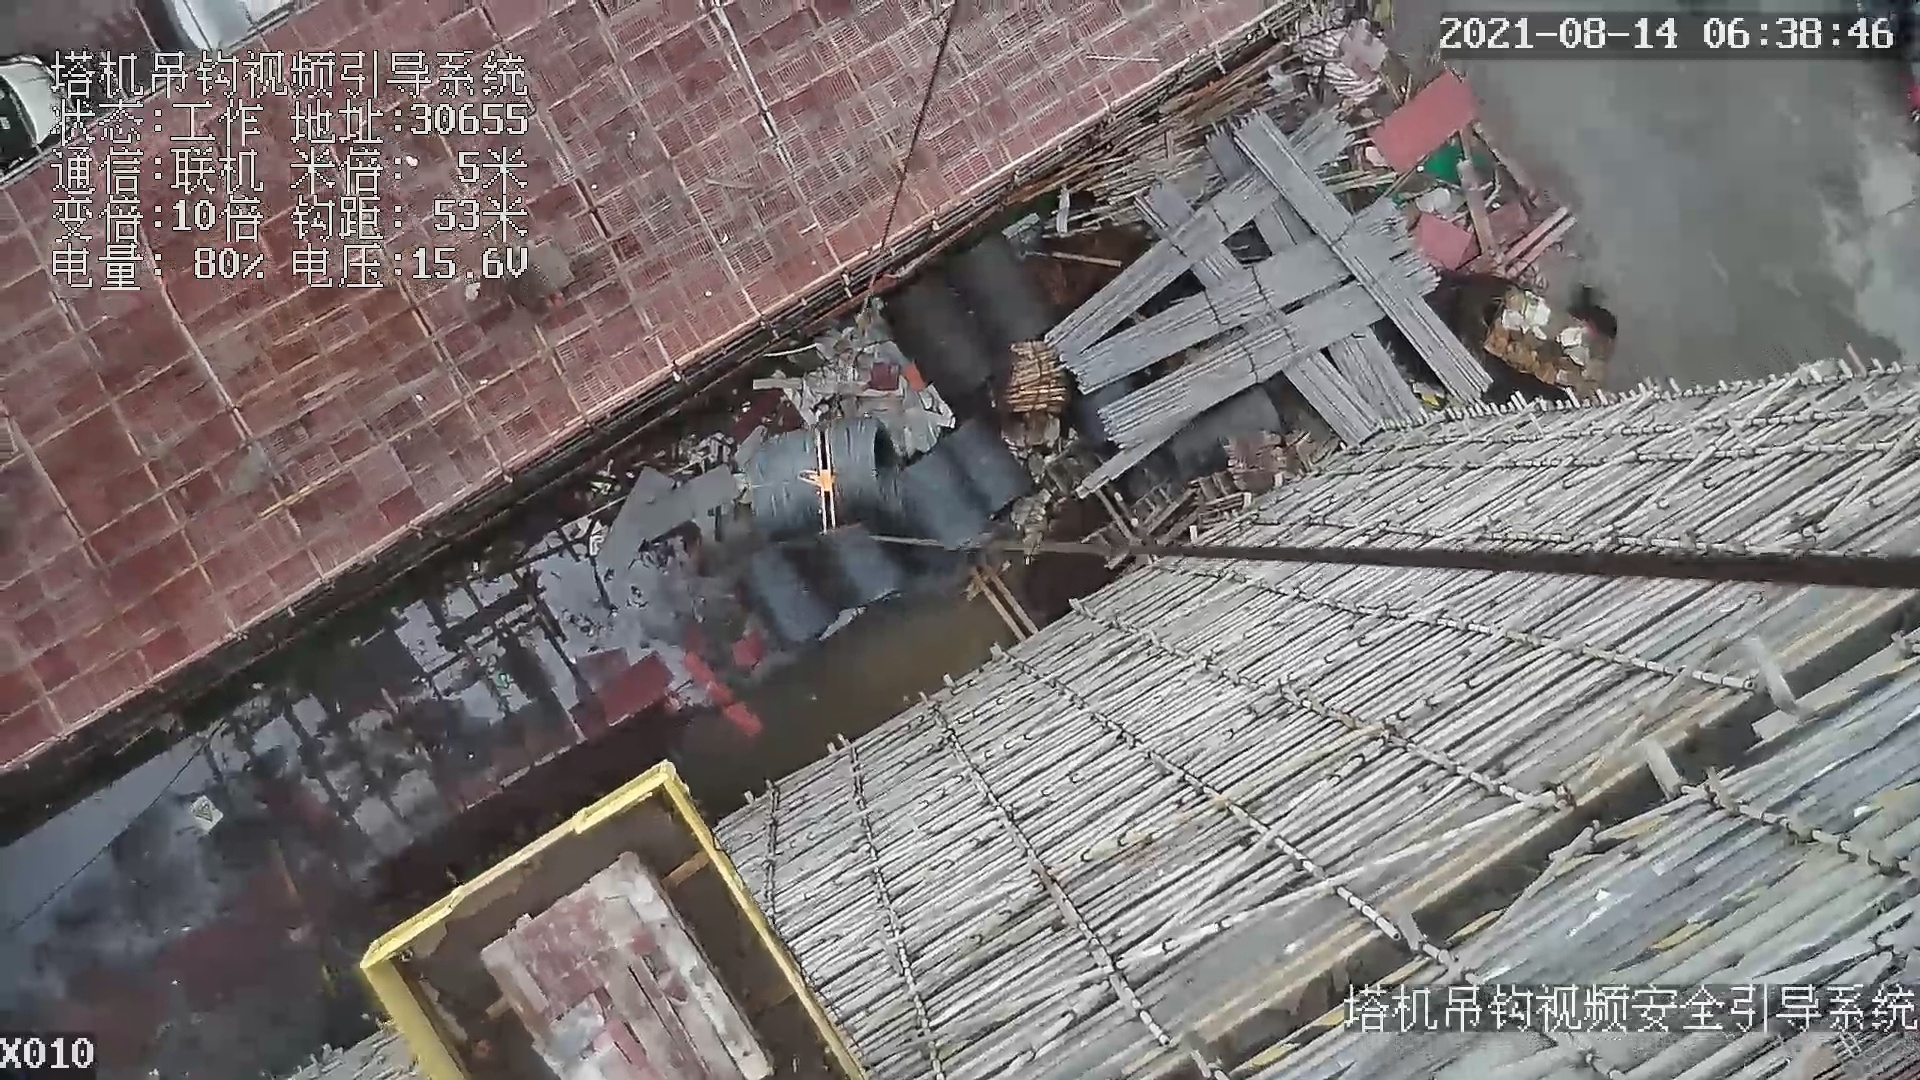hook: (796, 427, 843, 539)
